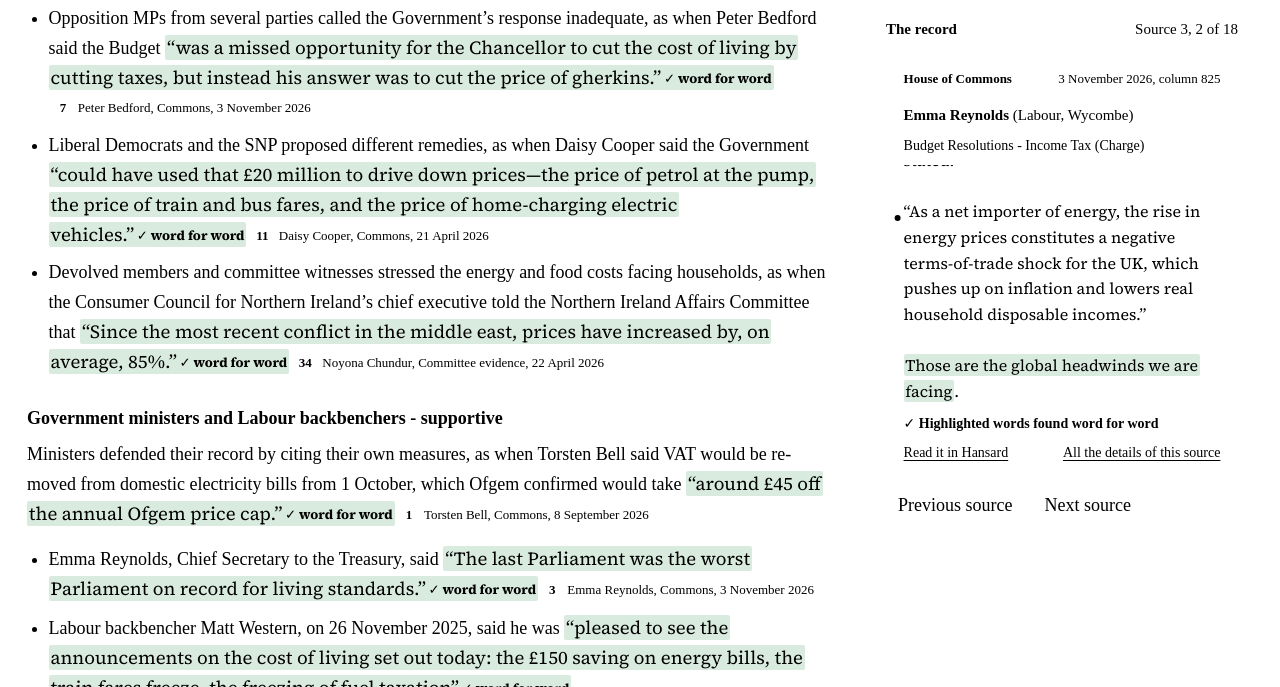
Scenario: a finished briefing › on a wide screen, shows the record beside it from the start, following the chip chosen
(page scrolled)
Check: the text with class "wts-now" reads "Those are the global headwinds we are facing", box [905, 354, 1198, 402]
Click the button "Previous source" at {"x": 955, "y": 506}, box [886, 492, 1024, 520]
(page scrolled)
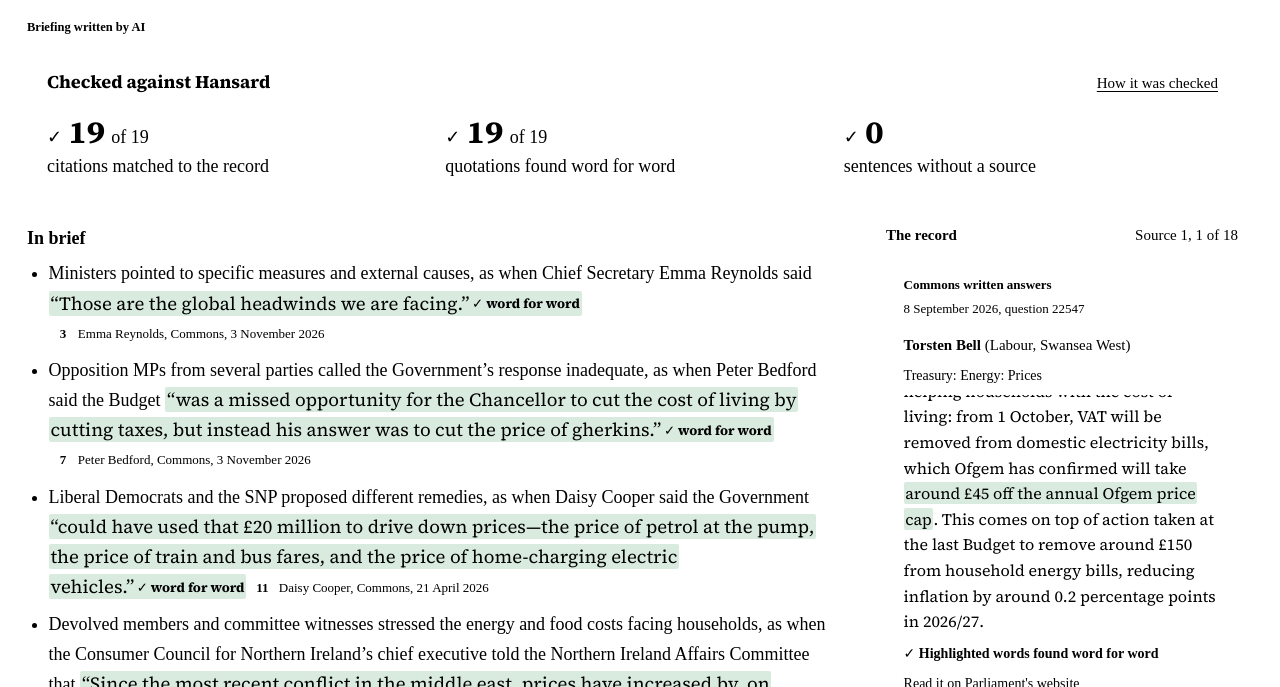
Click the button named "Source 3 Emma Reynolds" at {"x": 190, "y": 333}, box [49, 319, 332, 348]
(page scrolled)
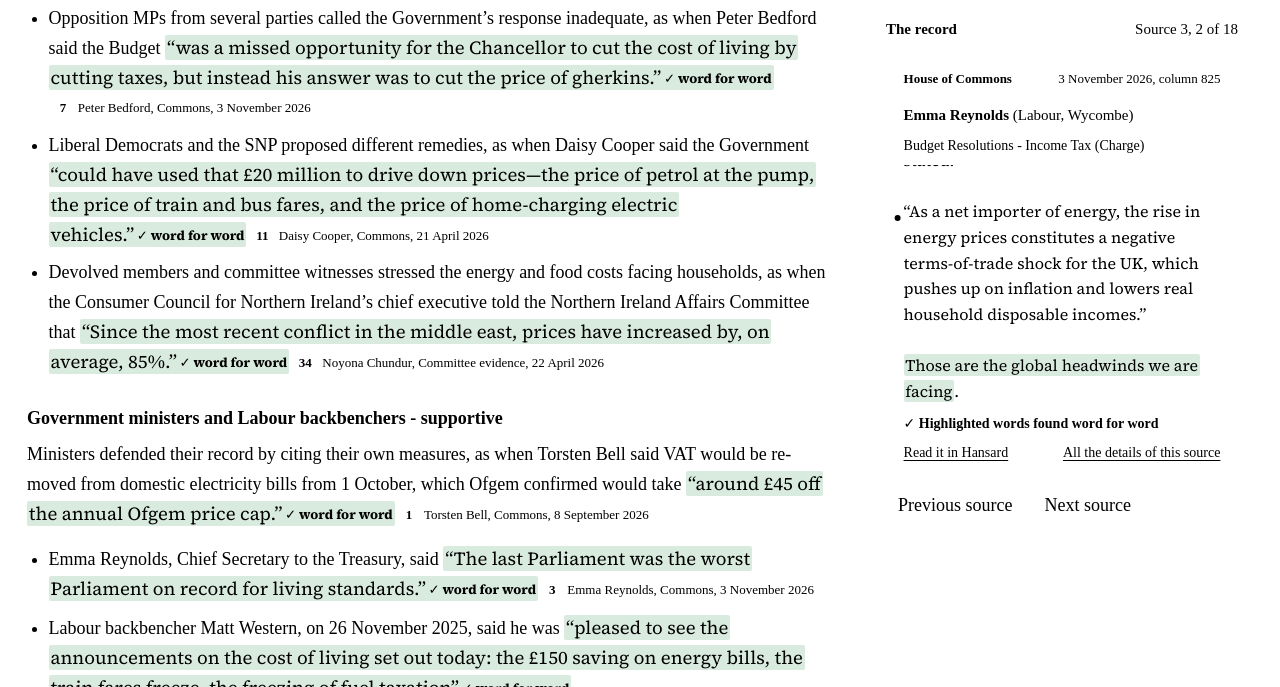
Check: the text "Source 3, 2 of 18" is shown, box [1135, 18, 1238, 41]
Check: the text with class "wts-now" reads "Those are the global headwinds we are facing", box [905, 354, 1198, 402]
Click the button "Next source" at {"x": 1088, "y": 506}, box [1032, 492, 1143, 520]
(page scrolled)
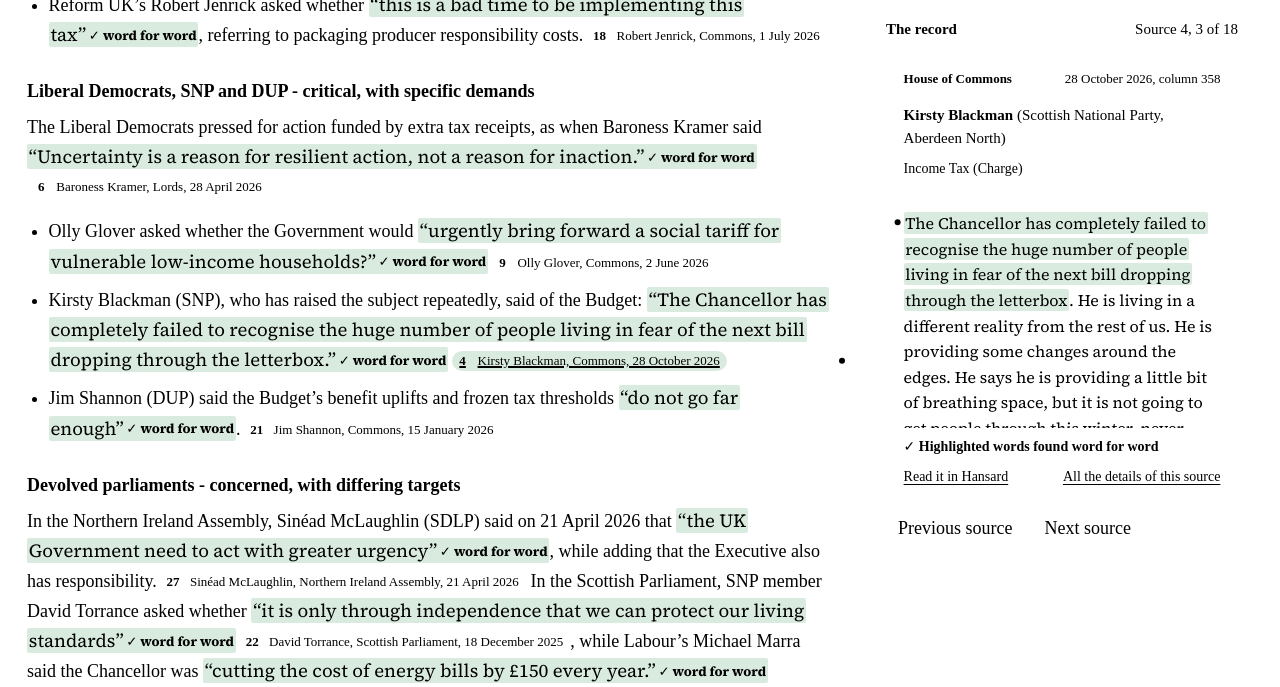
Check: the text "Source 3, " is gone
